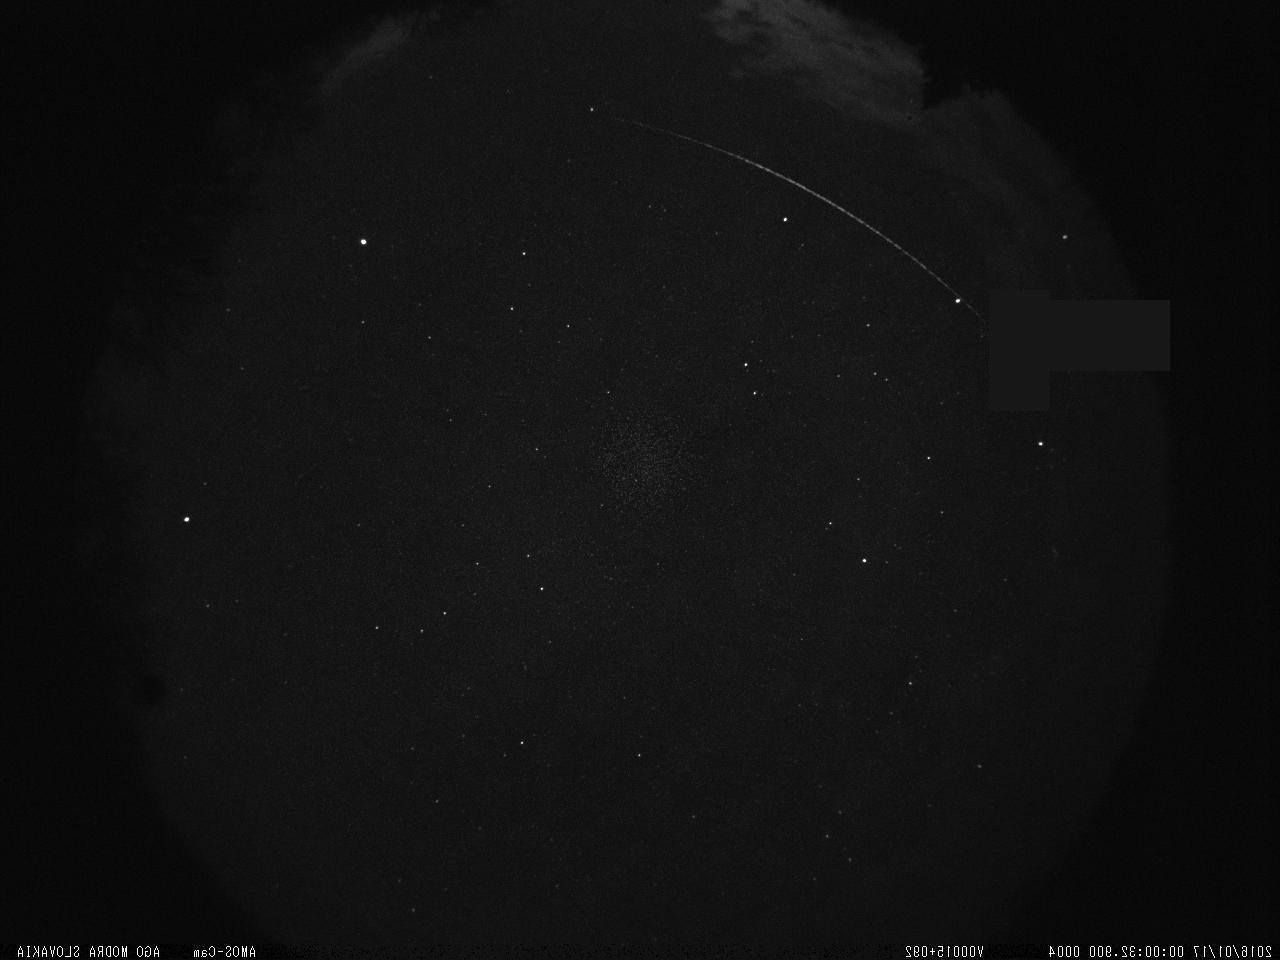meteor: (587, 111, 1004, 343)
